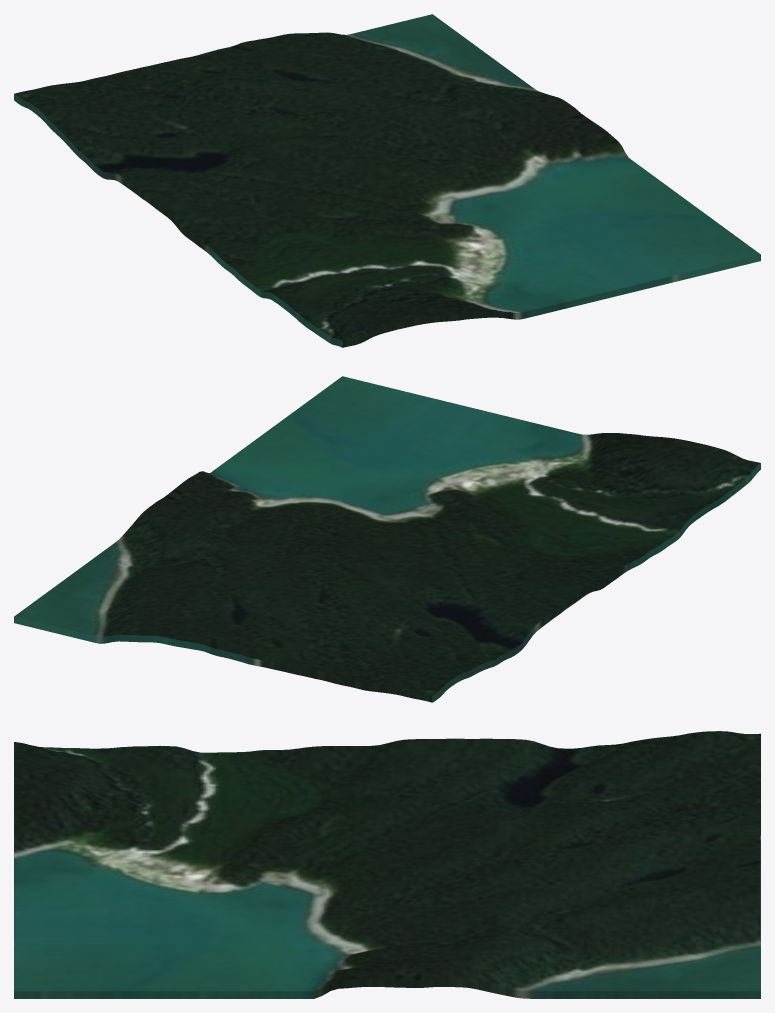
The picture shows the model from 3 angles, top to bottom: view 1: azimuth 30°, elevation 25°; view 2: azimuth 150°, elevation 25°; view 3: azimuth 270°, elevation 25°; orthographic projection. The views are drawn at different scales.
Parts seen in each view (by area): view 1: tile; view 2: tile; view 3: tile.
Boxes of the visible parts, left/top/right/bottom form: tile: left=14, top=14, right=760, bottom=347; tile: left=14, top=376, right=760, bottom=702; tile: left=14, top=731, right=760, bottom=998.
Size of the model in its own units: 2025 by 144 by 2752.
Materials: 1 (1 with a texture image).
